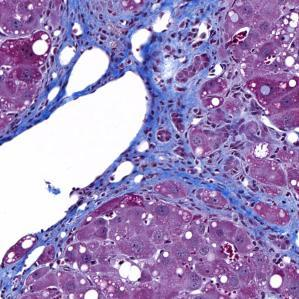fibrosis: (59, 7, 222, 90), (146, 105, 272, 208)
